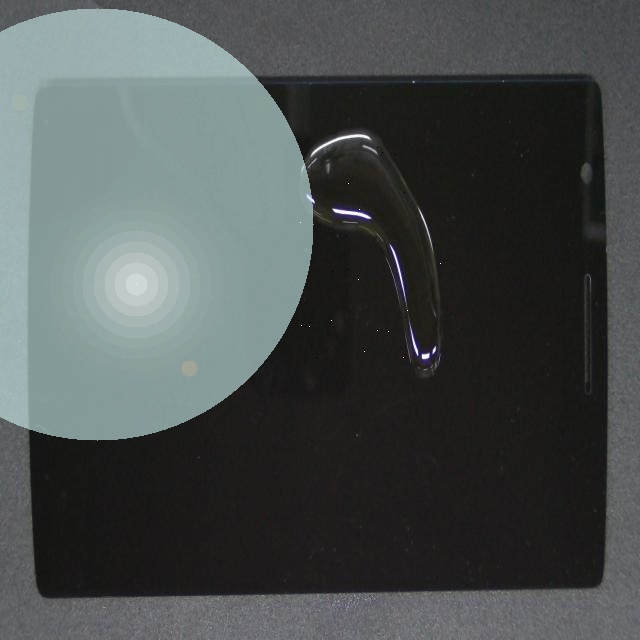oil: (253, 154, 607, 289)
